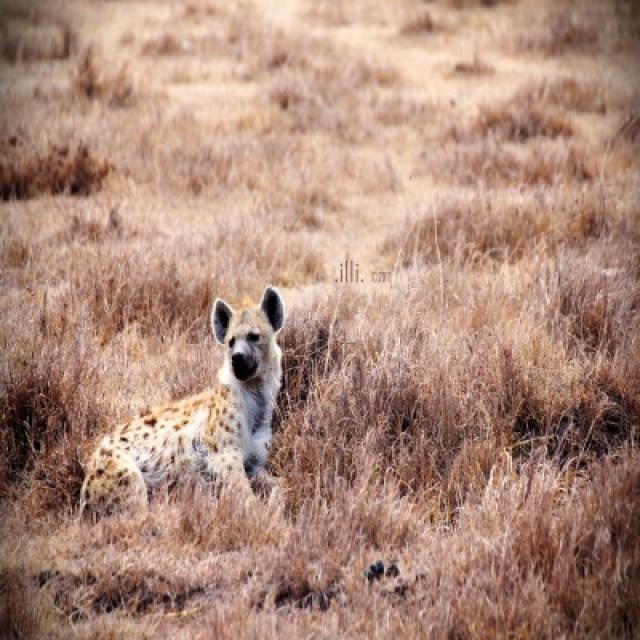hyena: (78, 290, 285, 514)
